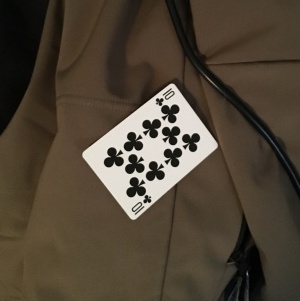card: (80, 79, 220, 222)
